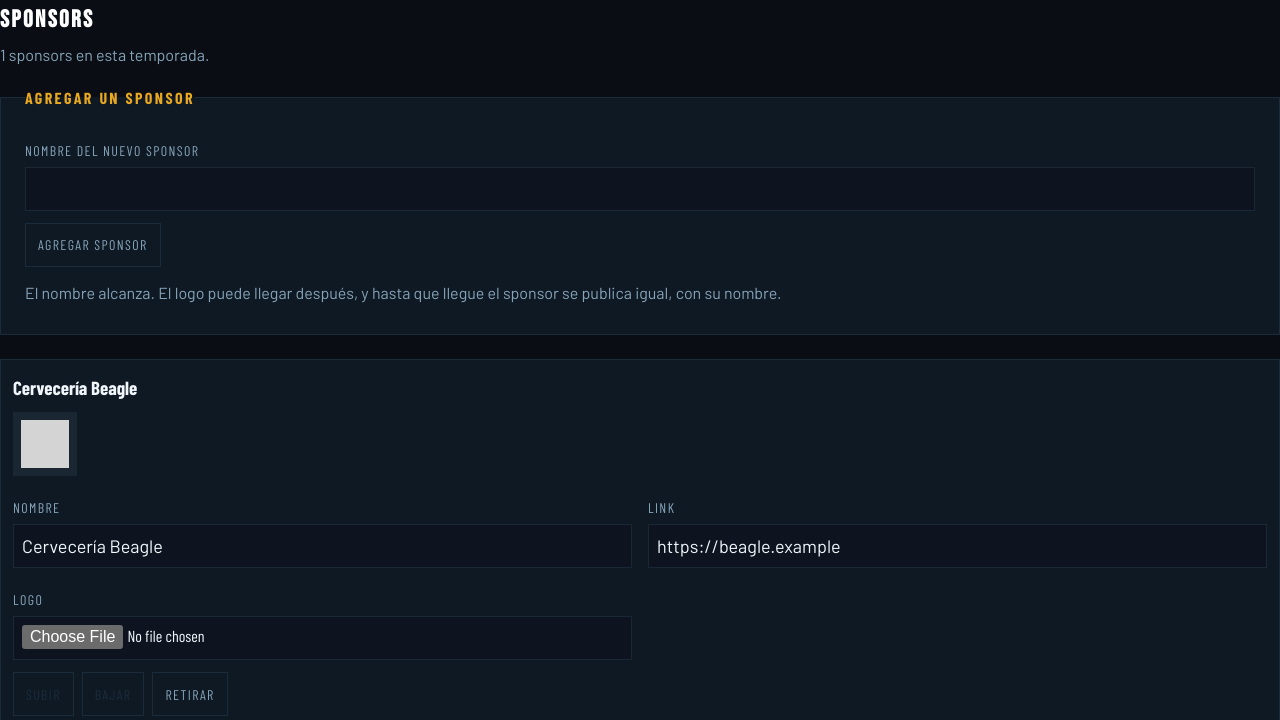
Test case: SponsorsScreen › will not save a sponsor whose name was emptied, and says why
The width and height of the screenshot is (1280, 720).
Clear the field labelled "Nombre". click: point(322, 546)
box: 13,524 -> 632,568
(page scrolled)
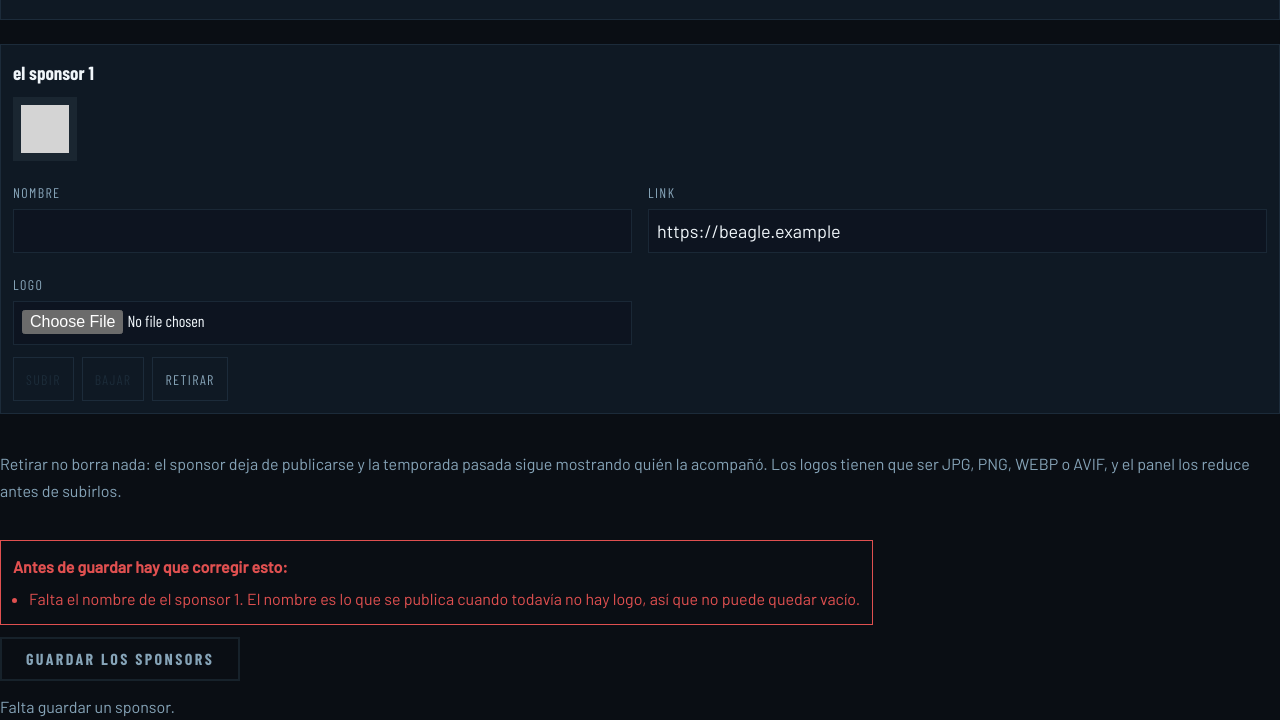
Result: the list item "Falta el nombre de el sponsor 1. El nombre es lo que se publica cuando todavía no hay logo, así que no puede quedar vací" is shown at 29,589 -> 860,608
Result: the button "Guardar los sponsors" is disabled at 0,637 -> 240,681
